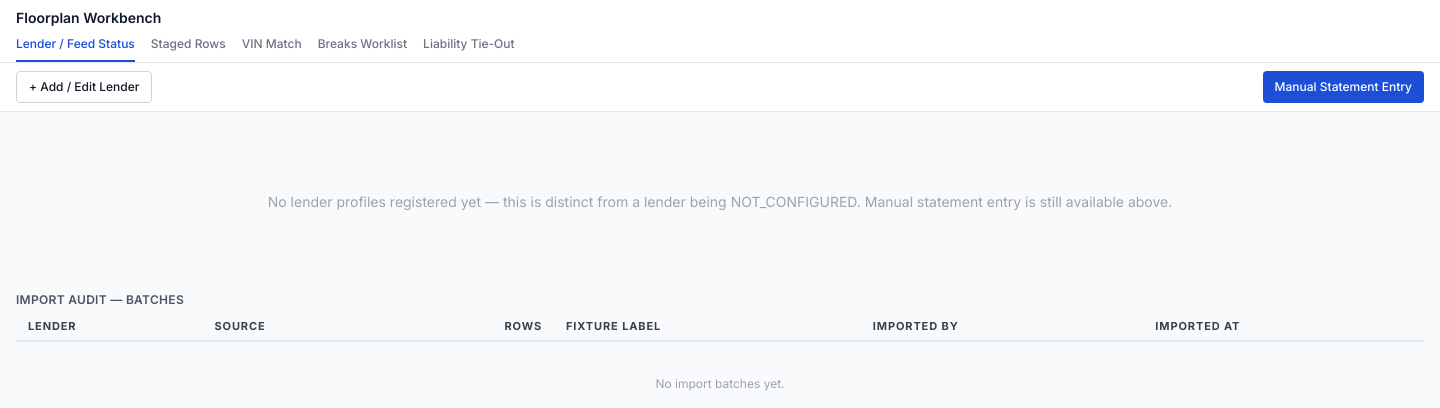
Test: FloorplanWorkbench — Staged Rows tab › renders staged rows from the real API response
What coordinates should you click on to do the following:
click the button with test id "staged-rows-tab-button"
I would click on:
 (188, 49)
Its box is top-left (151, 36), bottom-right (226, 62).
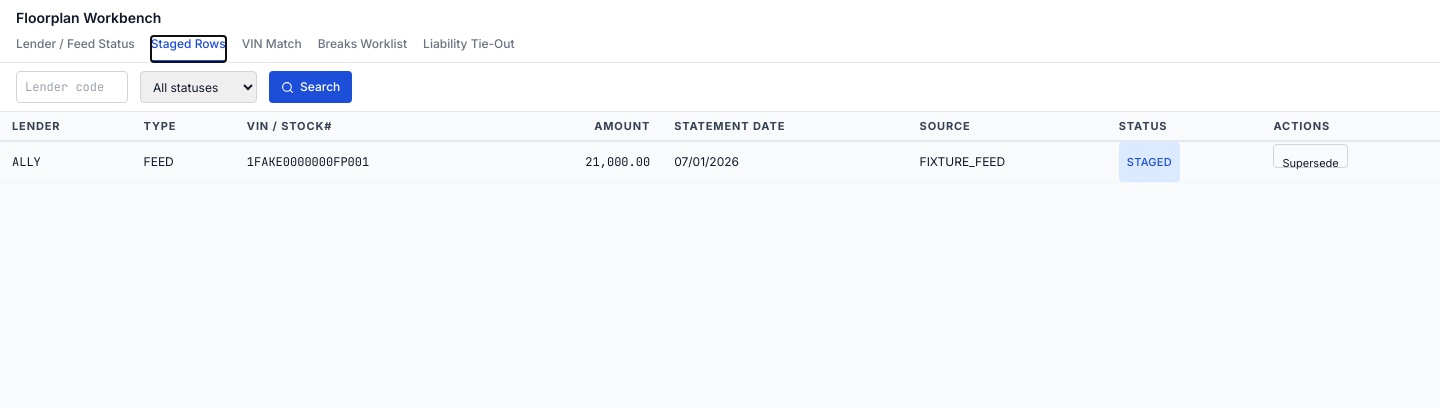
Check: the row with test id "staged-row-row-1" is shown, box top-left (0, 141), bottom-right (1439, 182)
